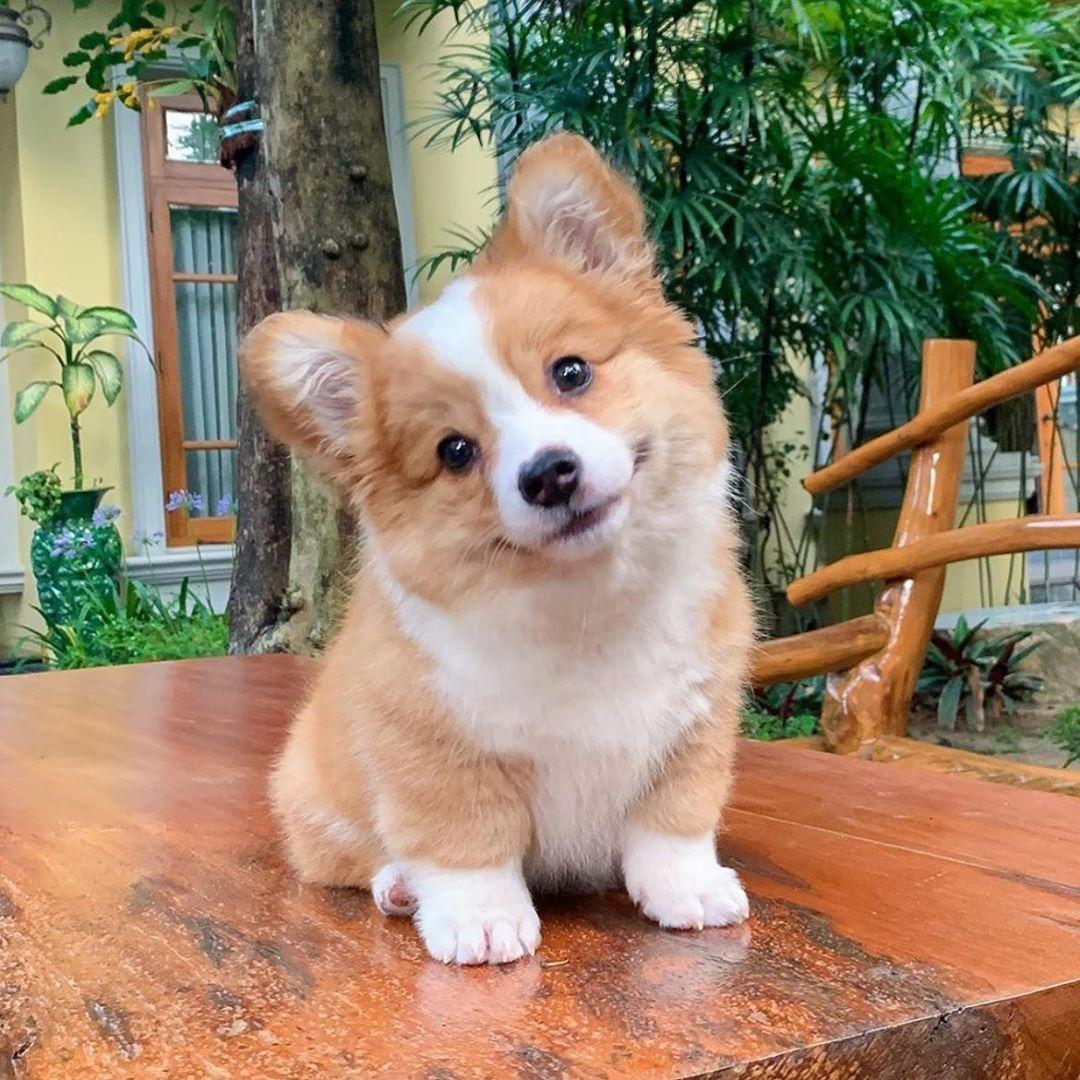puppy-dog: (229, 121, 760, 971)
